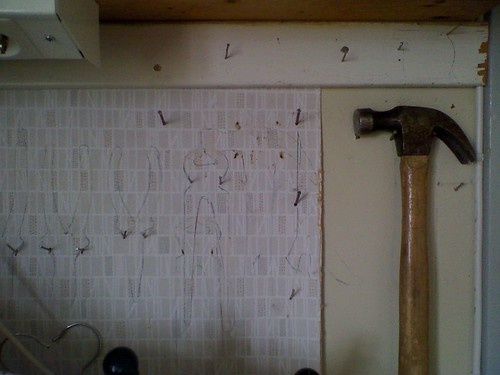hammer: (354, 101, 471, 375)
